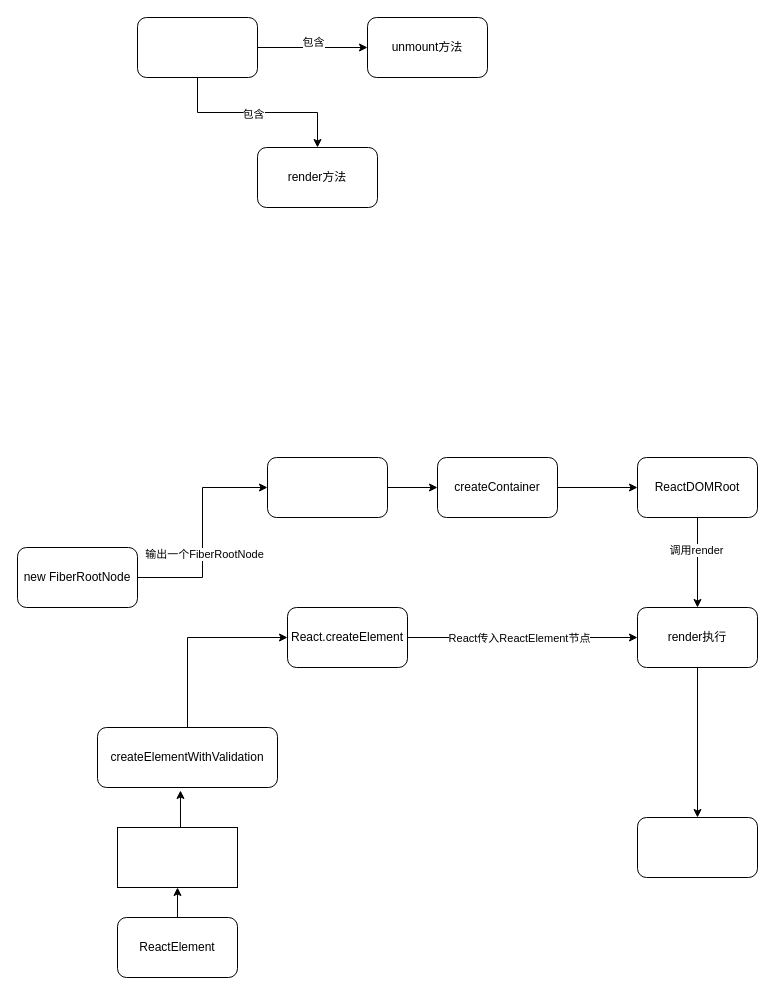
The diagram is 775 pixels wide and 995 high, and some of its shapes have lost their labels. Here are the shapes that lost their labels. From the top down, the centre of each, then its label:
At point 197,47: "ReactDom".
At point 327,487: "createFiberRoot".
At point 177,857: "createElement".
At point 697,847: "render执行完毕".
